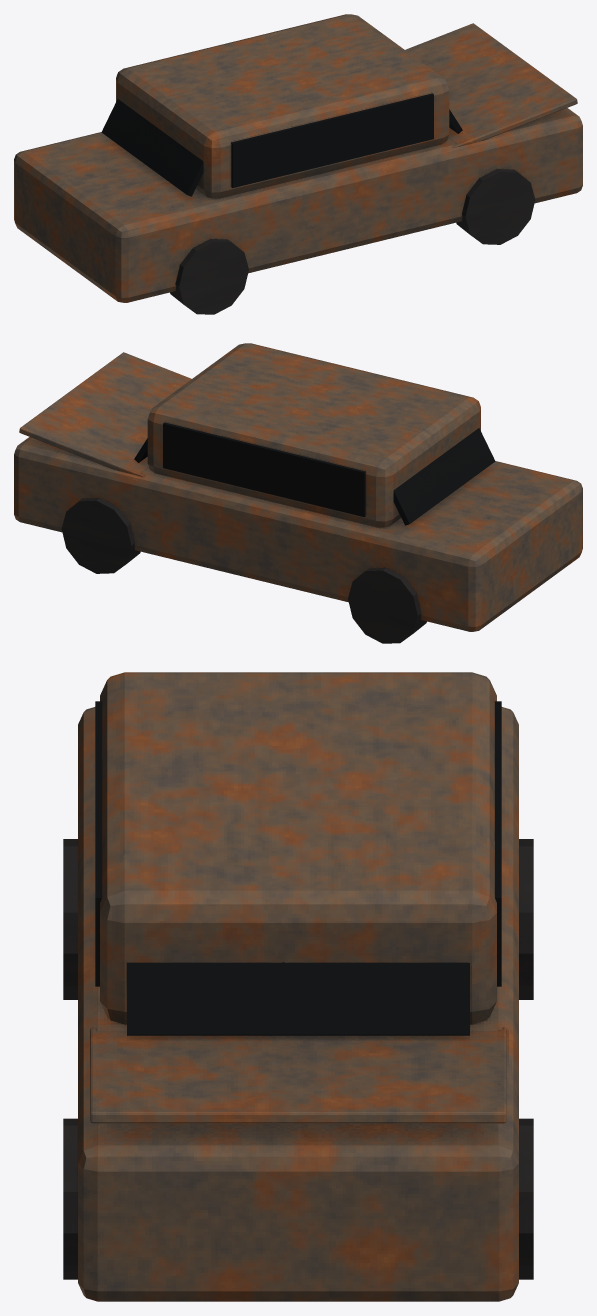
File: city_car_wreck.glb
3 renders of one model, top to bottom at view 1: azimuth 30°, elevation 25°; view 2: azimuth 150°, elevation 25°; view 3: azimuth 270°, elevation 25°, orthographic. The views are drawn at different scales.
Parts seen in each view (by area): view 1: city_car_wreck; view 2: city_car_wreck; view 3: city_car_wreck.
Part boxes in pixels (box(x1,y1,x2,y2)): city_car_wreck: box(14, 14, 582, 314); city_car_wreck: box(14, 343, 582, 643); city_car_wreck: box(63, 672, 533, 1301).
Bounding box in the file's own units: 4.4 × 1.51 × 1.92.
3 materials, 3 textured.
